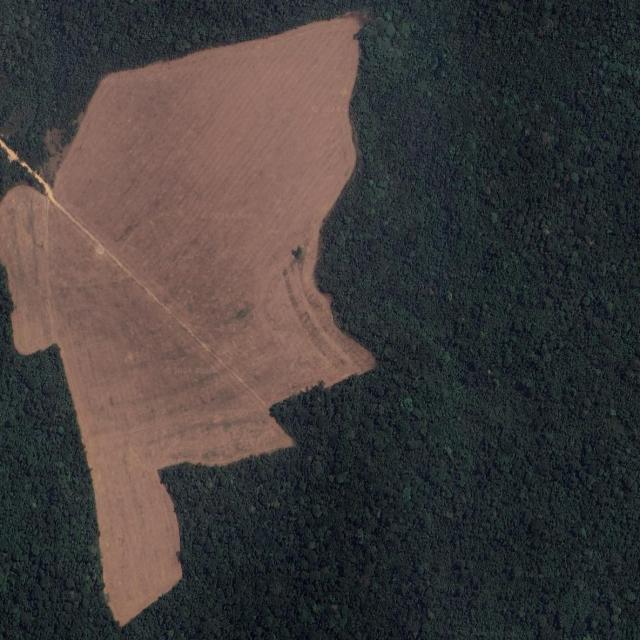noVegetation: (0, 17, 375, 625)
vegetation: (0, 0, 640, 639)
